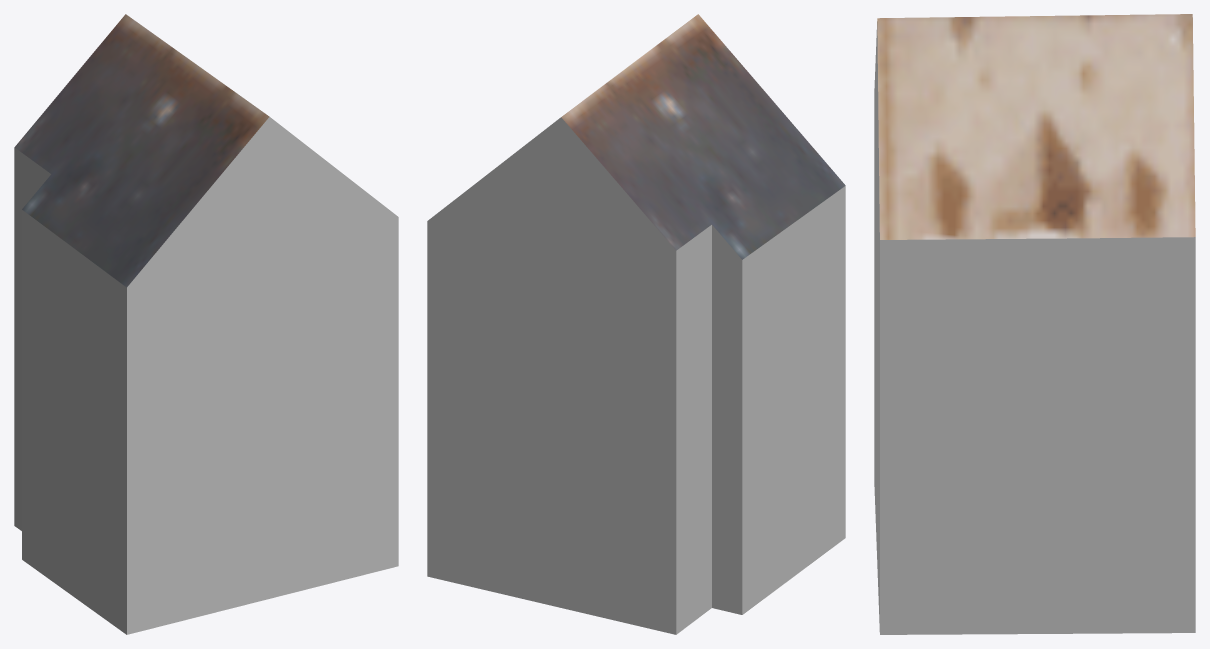
File: DEBW_0010007Tx7X.gltf
The picture shows the model from 3 angles, left to right: view 1: azimuth 30°, elevation 25°; view 2: azimuth 150°, elevation 25°; view 3: azimuth 270°, elevation 25°; orthographic projection. The views are drawn at different scales.
Visible parts, largest first — view 1: Z_UP; view 2: Z_UP; view 3: Z_UP.
Boxes of the visible parts, x1,y1,x2,y2 form: Z_UP: [14, 14, 398, 634]; Z_UP: [427, 14, 845, 634]; Z_UP: [874, 14, 1195, 634].
Size of the model in its own units: 12.98 by 21.77 by 11.59.
2 materials, 1 textured.
